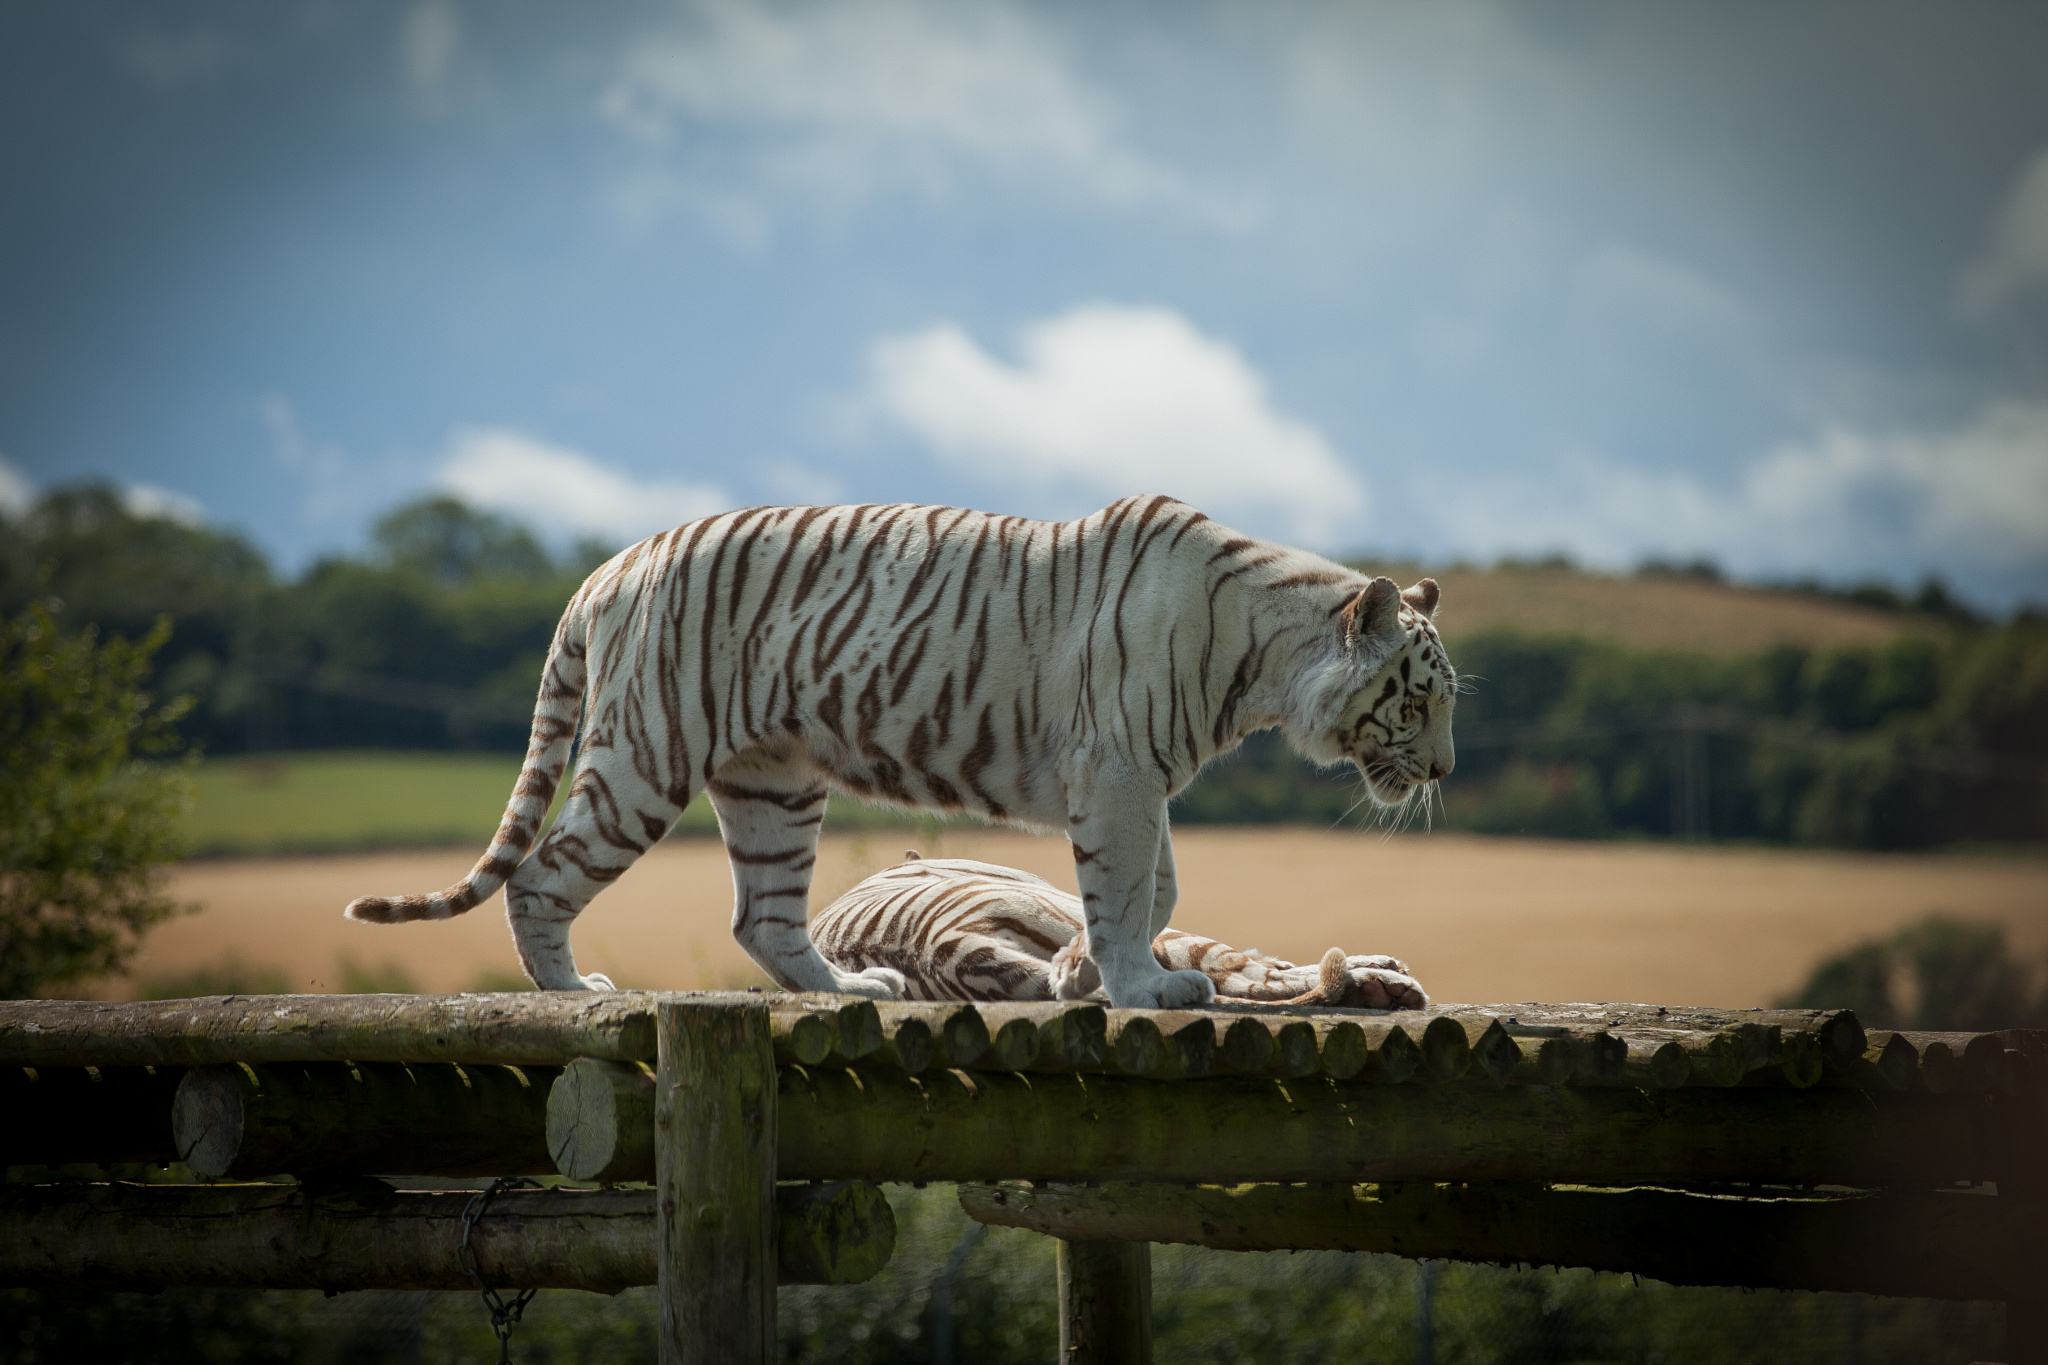tiger: (358, 484, 1472, 1031)
